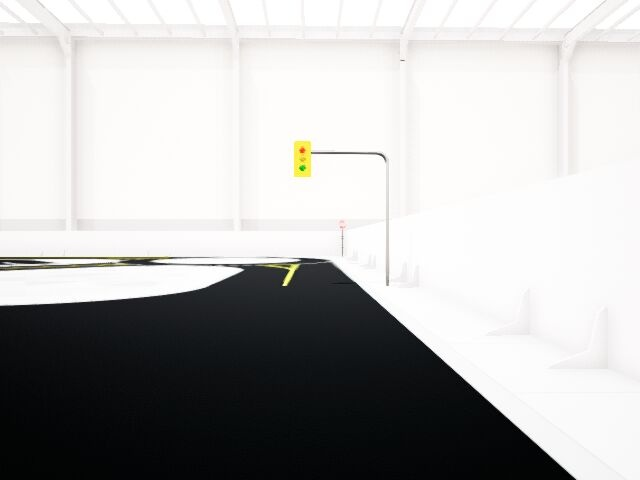red: (295, 141, 311, 176)
stopsign: (338, 219, 346, 229)
